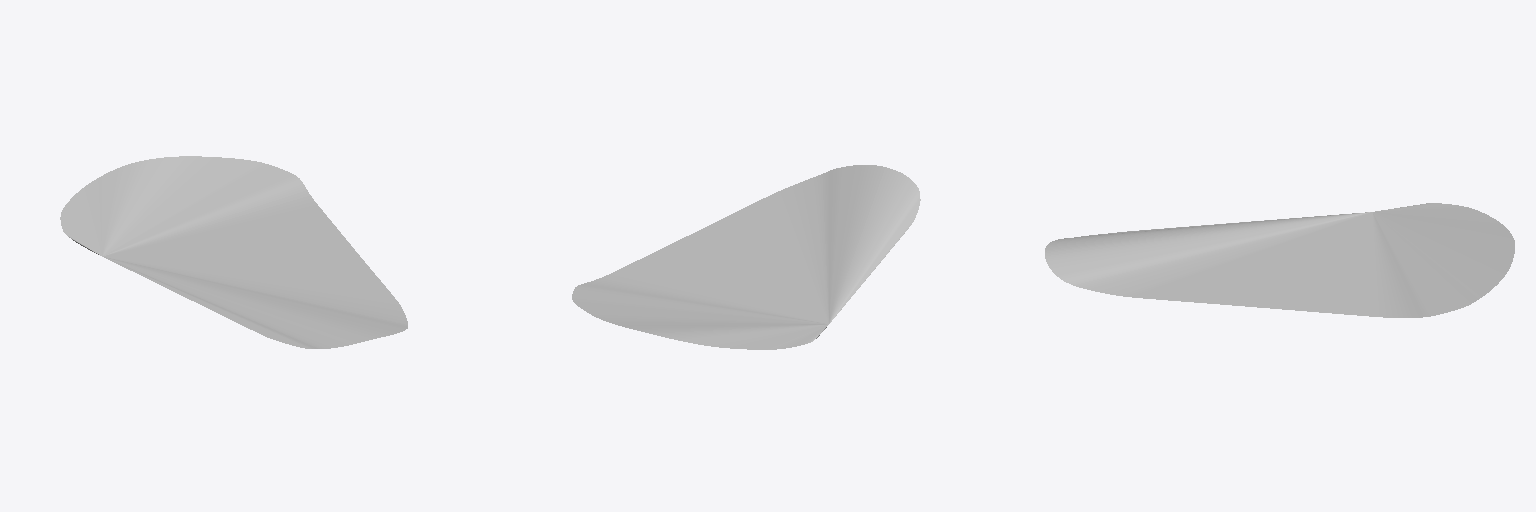
File: AI_waypoints_1.obj
3 renders of one model, left to right at view 1: azimuth 30°, elevation 25°; view 2: azimuth 150°, elevation 25°; view 3: azimuth 270°, elevation 25°, orthographic.
Parts seen in each view (by area): view 1: Waypoints1; view 2: Waypoints1; view 3: Waypoints1.
Boxes of the visible parts, <box> form: Waypoints1: <box>60,156,407,348</box>; Waypoints1: <box>572,165,920,349</box>; Waypoints1: <box>1045,203,1514,317</box>.
Size of the model in its own units: 162 by 11.05 by 284.